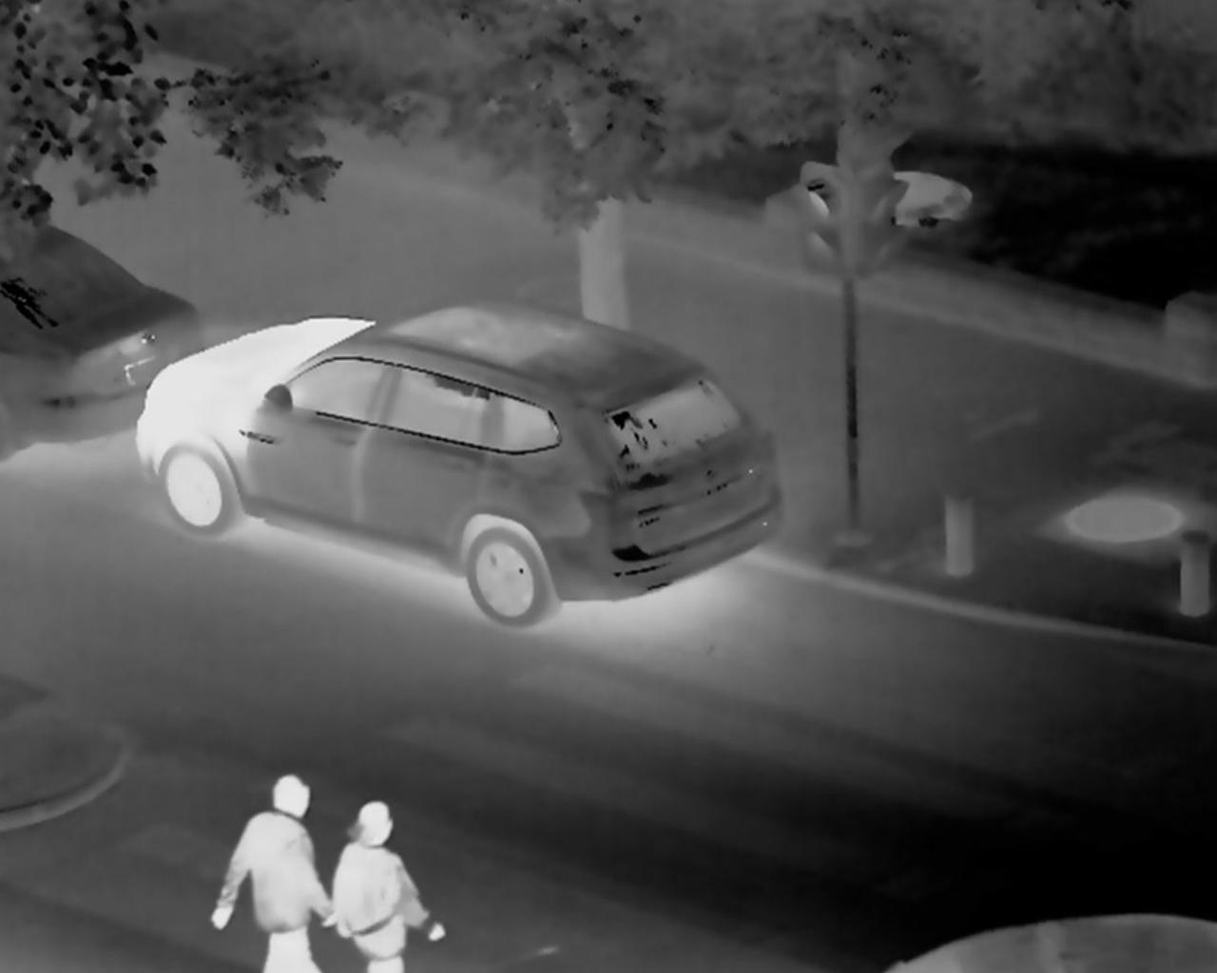person: (215, 761, 326, 973), (338, 792, 421, 973)
